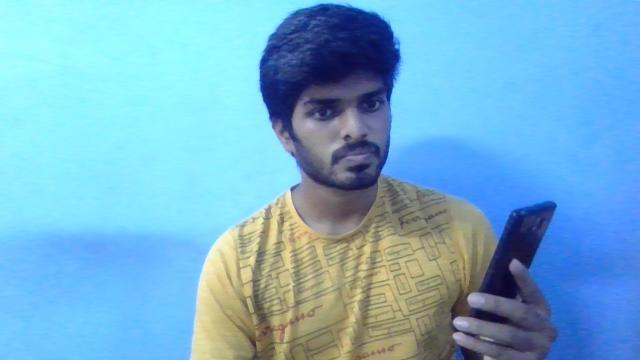PhoneUse: (479, 199, 556, 347)
SafeDriving: (300, 93, 348, 124), (355, 88, 392, 118)
